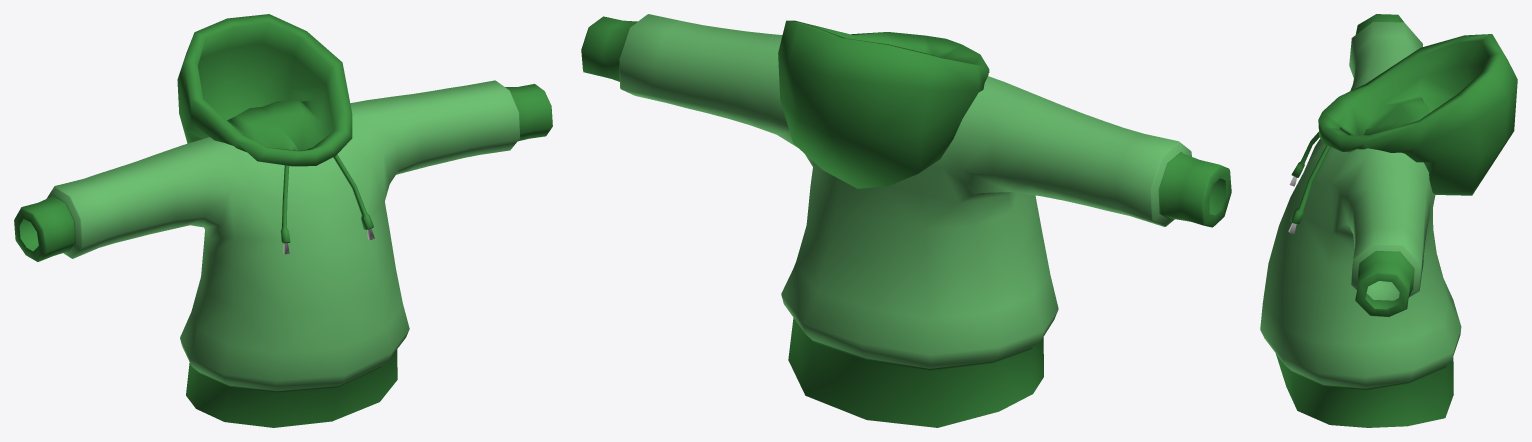
File: Outerwear_Green_001.glb
3 views of the same model, side by side, from view 1: azimuth 30°, elevation 25°; view 2: azimuth 150°, elevation 25°; view 3: azimuth 270°, elevation 25° (orthographic). The views are drawn at different scales.
Parts seen in each view (by area): view 1: Outerwear_Green_001; view 2: Outerwear_Green_001; view 3: Outerwear_Green_001.
Part boxes in pixels (bbox=[...]): Outerwear_Green_001: bbox=[14, 14, 552, 427]; Outerwear_Green_001: bbox=[581, 14, 1231, 427]; Outerwear_Green_001: bbox=[1260, 14, 1517, 427].
Size of the model in its own units: 1.27 by 0.7836 by 0.5333.
Materials: 1 (1 with a texture image).
